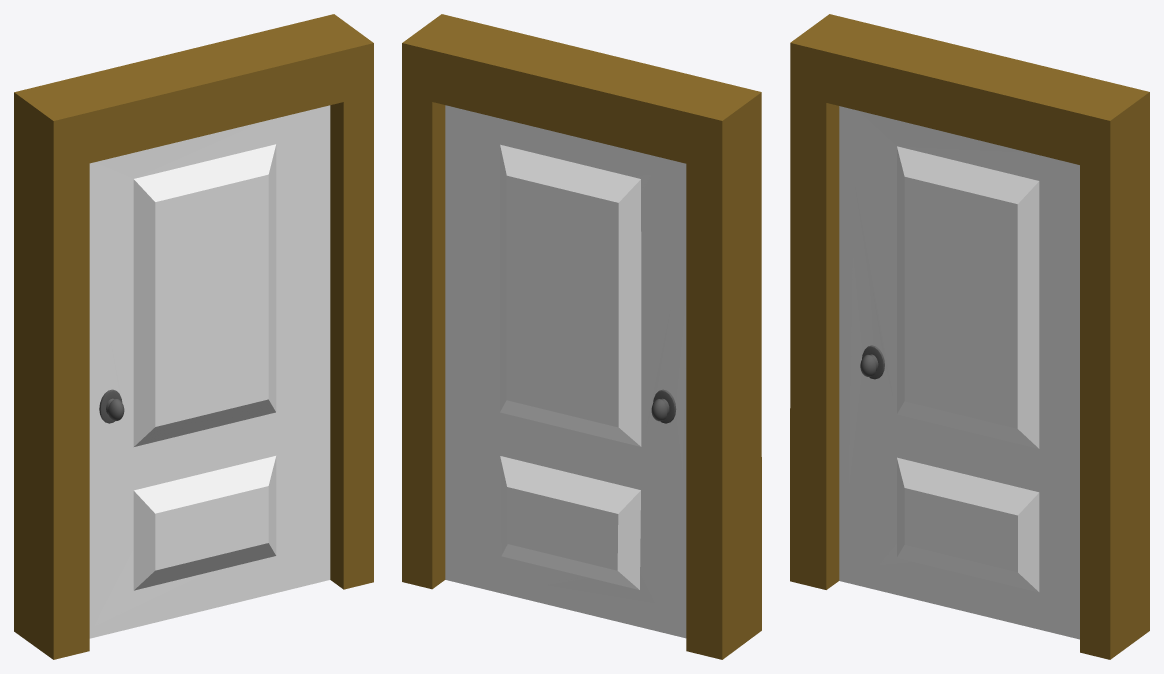
File: Puerta.fbx
3 renders of one model, left to right at view 1: azimuth 30°, elevation 25°; view 2: azimuth 150°, elevation 25°; view 3: azimuth 330°, elevation 25°, orthographic.
Visible parts, largest first — view 1: Puerta009, Marco005; view 2: Puerta009, Marco005; view 3: Puerta009, Marco005.
Part boxes in pixels (x1,y1,x2,y2): Puerta009: (89, 105, 330, 638); Marco005: (14, 14, 373, 659); Puerta009: (445, 105, 686, 638); Marco005: (402, 14, 761, 659); Puerta009: (839, 106, 1079, 639); Marco005: (790, 14, 1149, 659).
Size of the model in its own units: 140 by 225 by 30.04.
